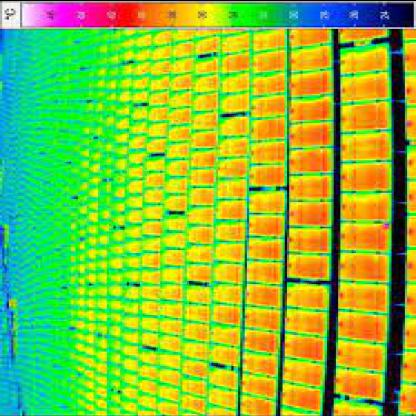Defects: (340, 316, 380, 336), (342, 289, 380, 306), (345, 260, 385, 276)
